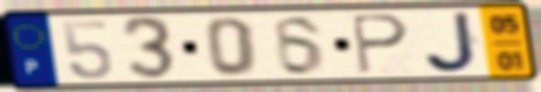0: (201, 15, 262, 79)
3: (122, 13, 176, 83)
5: (58, 18, 115, 81)
6: (270, 15, 329, 77)
J: (421, 10, 484, 76)
P: (348, 12, 413, 77)
